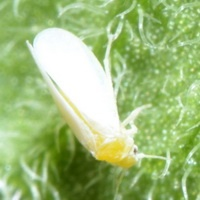insect: (26, 28, 147, 167)
